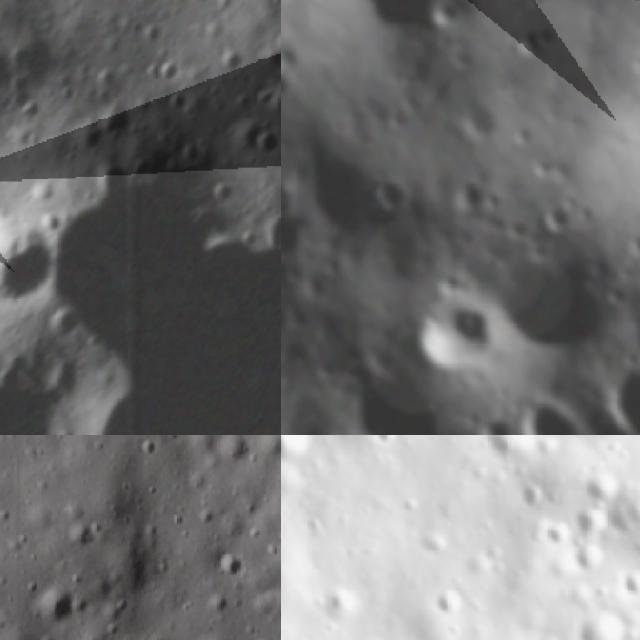crater: (406, 292, 526, 381), (0, 218, 60, 299), (596, 361, 640, 435), (363, 166, 423, 220), (509, 393, 580, 435), (281, 174, 313, 261), (563, 604, 632, 640), (30, 580, 77, 630), (456, 97, 504, 144), (572, 500, 614, 550), (410, 0, 461, 35), (539, 197, 579, 241), (562, 545, 608, 582), (71, 115, 109, 154), (281, 435, 318, 475), (67, 520, 104, 557), (322, 581, 358, 618), (428, 586, 465, 621), (96, 161, 130, 194), (213, 435, 248, 467), (615, 566, 640, 603), (210, 178, 242, 204), (219, 548, 246, 578), (268, 80, 281, 121), (281, 67, 293, 101), (373, 435, 401, 445)
